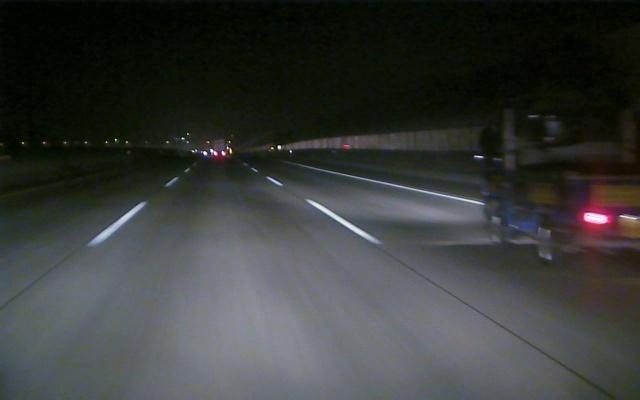lane: (292, 162, 482, 205), (267, 178, 385, 244), (87, 178, 176, 247)
